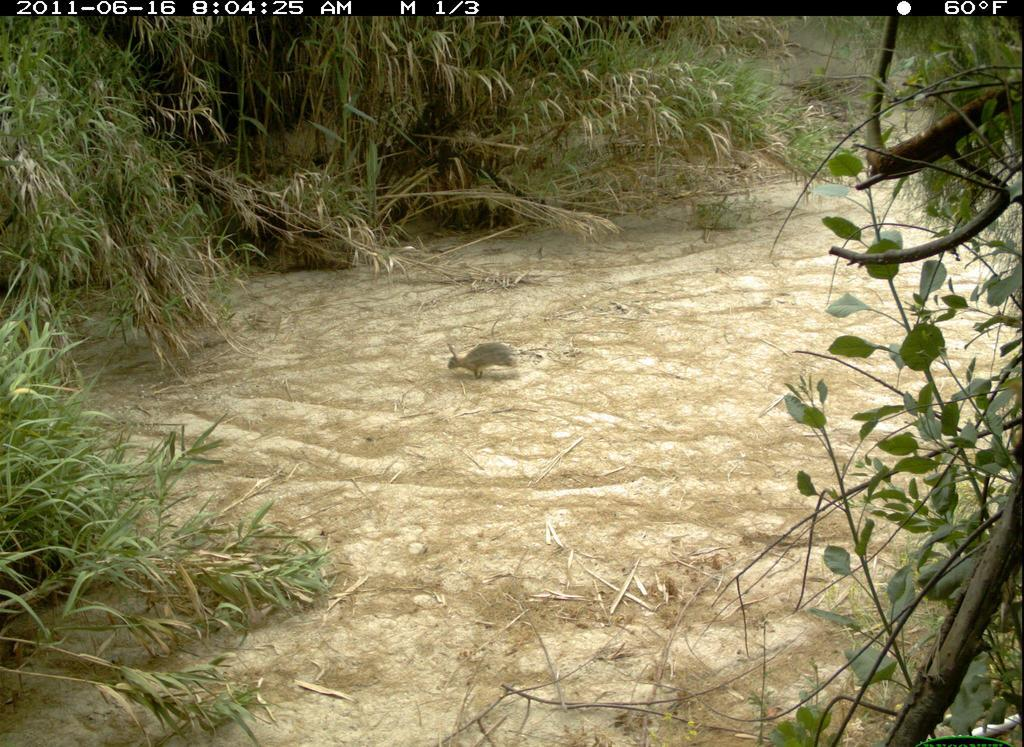rabbit: (442, 335, 532, 391)
